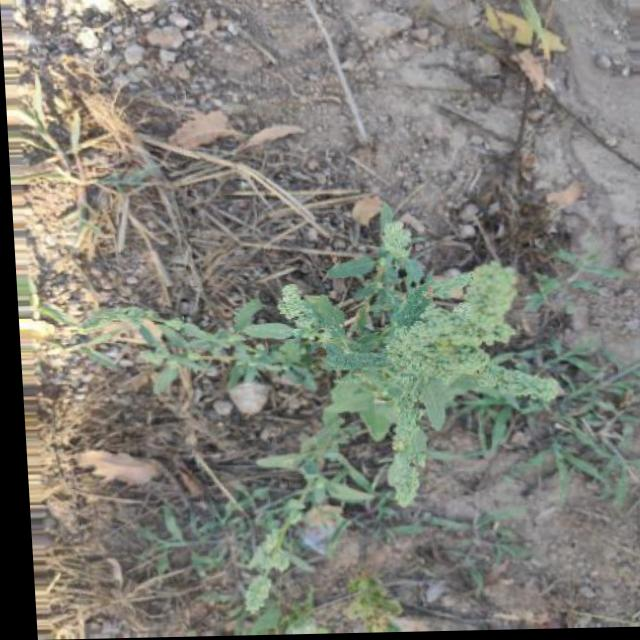weed: (119, 248, 589, 596)
